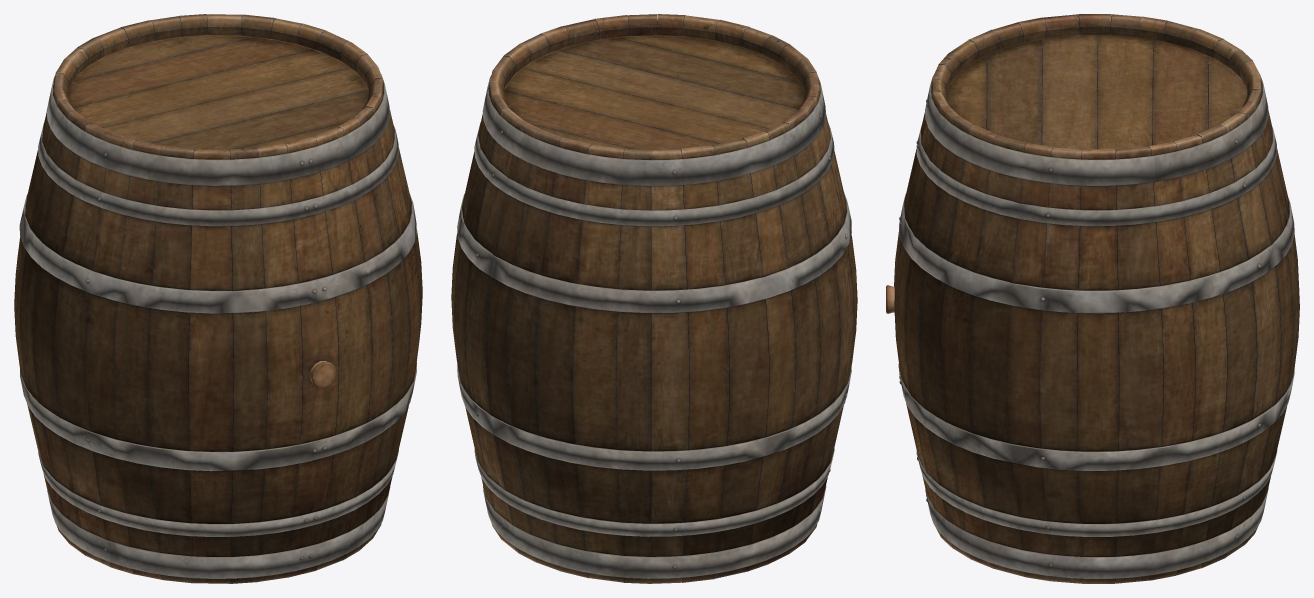
Rendered from wine_barrel_01_1k.gltf.
3 renders of one model, left to right at view 1: azimuth 30°, elevation 25°; view 2: azimuth 150°, elevation 25°; view 3: azimuth 270°, elevation 25°, orthographic.
Visible parts, largest first — view 1: wine_barrel_01, wine_barrel_01_Lid, wine_barrel_01_bung; view 2: wine_barrel_01, wine_barrel_01_Lid; view 3: wine_barrel_01, wine_barrel_01_Lid.
Boxes of the visible parts, left/top/right/bottom form: wine_barrel_01: left=14, top=14, right=422, bottom=583; wine_barrel_01_Lid: left=67, top=35, right=368, bottom=149; wine_barrel_01_bung: left=310, top=361, right=336, bottom=388; wine_barrel_01: left=451, top=14, right=857, bottom=583; wine_barrel_01_Lid: left=503, top=35, right=805, bottom=152; wine_barrel_01: left=894, top=14, right=1299, bottom=583; wine_barrel_01_Lid: left=946, top=35, right=1247, bottom=149.
Bounding box in the file's own units: 0.7419 × 0.8713 × 0.756.
Materials: 1 (1 with a texture image).
